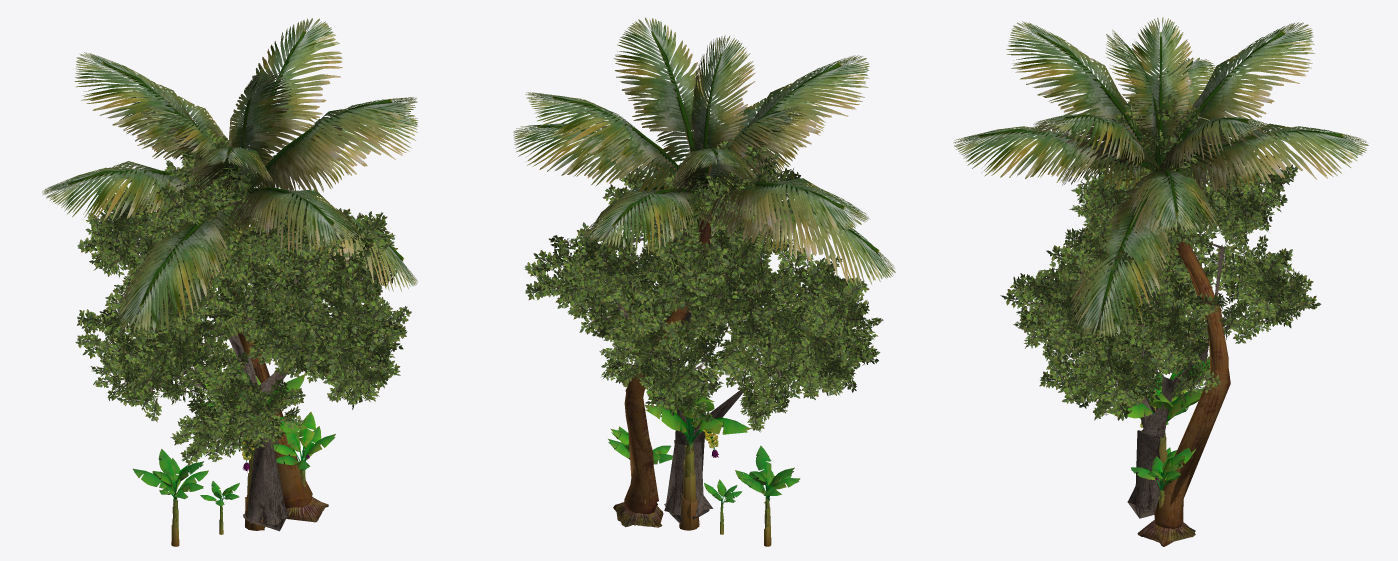
The model's file is trees.v1.glb.
3 views of the same model, side by side, from view 1: azimuth 30°, elevation 25°; view 2: azimuth 150°, elevation 25°; view 3: azimuth 270°, elevation 25° (orthographic).
Parts seen in each view (by area): view 1: shade_tree, coconut_palm, coconut_palm_far, shade_tree_far, banana_clump, banana_clump_far; view 2: shade_tree, coconut_palm, coconut_palm_far, shade_tree_far, banana_clump, banana_clump_far; view 3: shade_tree, coconut_palm, coconut_palm_far, shade_tree_far, banana_clump, banana_clump_far.
Boxes of the visible parts, x1,y1,x2,y2 form: shade_tree: (75,129,411,531); coconut_palm: (42,18,417,522); coconut_palm_far: (42,19,418,522); shade_tree_far: (85,136,406,519); banana_clump: (133,349,335,546); banana_clump_far: (134,366,335,530); shade_tree: (524,130,883,523); coconut_palm: (513,17,895,527); coconut_palm_far: (513,18,895,527); shade_tree_far: (529,134,875,511); banana_clump: (608,378,800,546); banana_clump_far: (608,389,799,542); shade_tree: (1000,93,1321,518); coconut_palm: (953,17,1368,546); coconut_palm_far: (954,22,1368,542); shade_tree_far: (1007,98,1316,482); banana_clump: (1106,338,1209,515); banana_clump_far: (1106,361,1210,496).
Bounding box in the file's own units: 10.32 × 12 × 10.15.
Materials: 7 (7 with a texture image).
